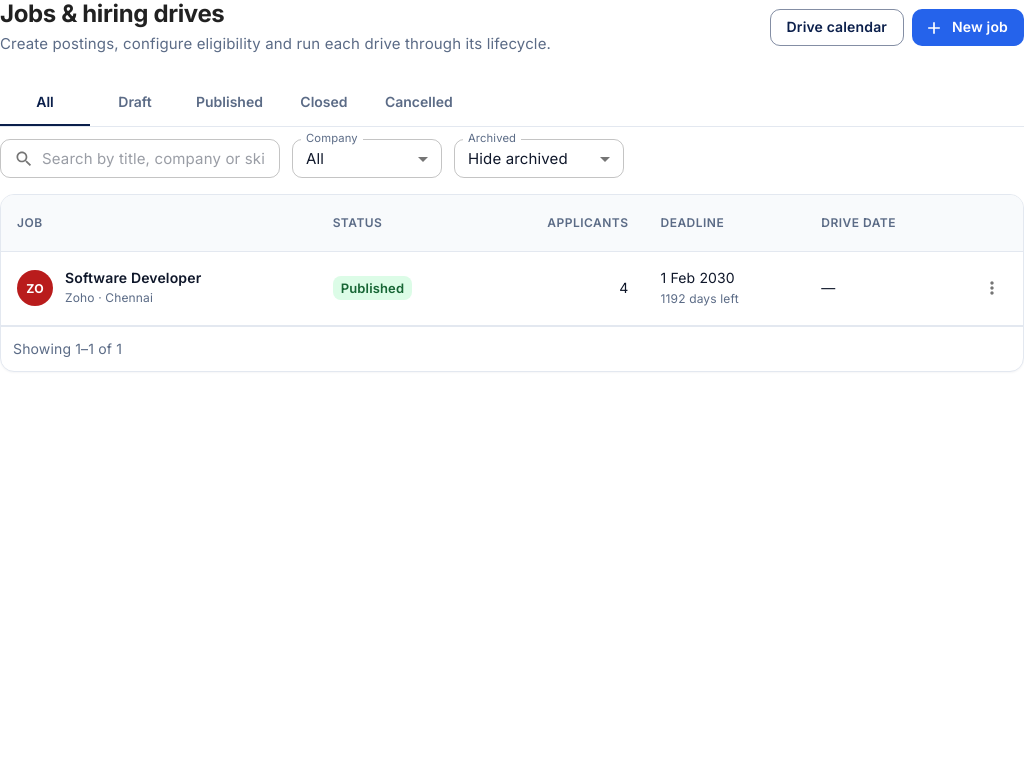
lifecycle actions from the row menu › a server refusal (409) is shown in the dialog and is never reported as success
The width and height of the screenshot is (1024, 768).
Check: the link "Software Developer" is shown, box [65,269,201,286]
Step 1. Click the button named "Actions for Software Developer" → (992, 288), box [977,273,1007,303]
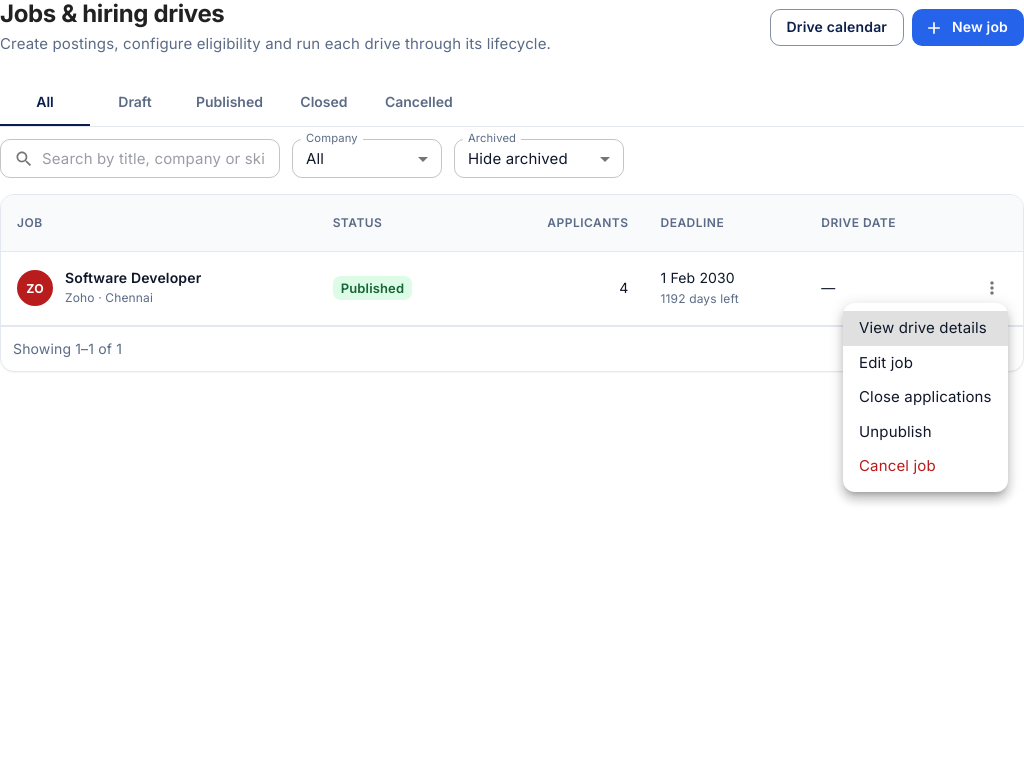
Step 2. Click the menu item "Unpublish" → (895, 431), box [859,422,932,440]
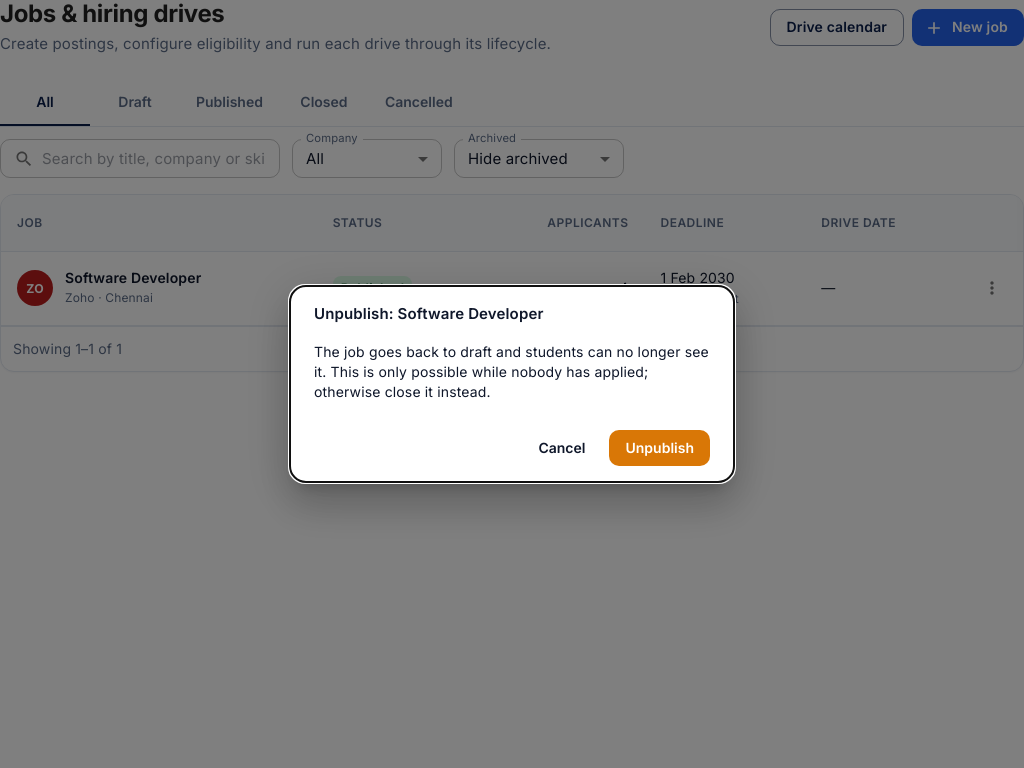
Step 3. Click the button "Unpublish" → (660, 448), box [610,430,710,466]
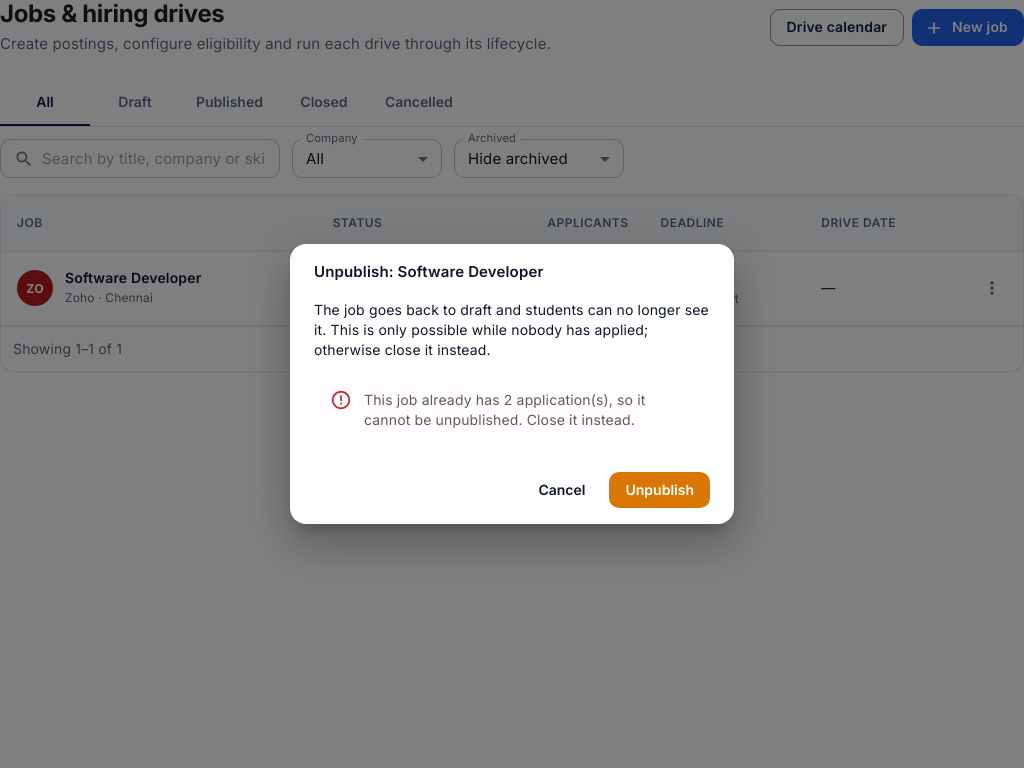
Check: the text "Close it instead" is shown, box [364,391,646,428]
